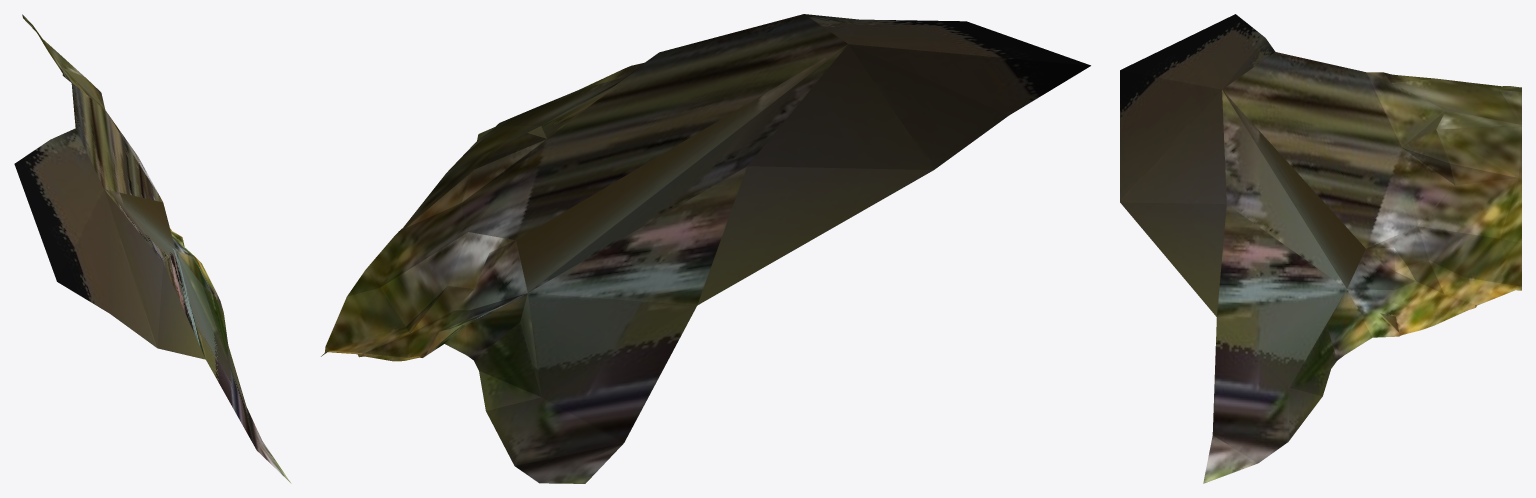
3 renders of one model, left to right at view 1: azimuth 30°, elevation 25°; view 2: azimuth 150°, elevation 25°; view 3: azimuth 270°, elevation 25°, orthographic. The views are drawn at different scales.
Size of the model in its own units: 1.91 by 2.43 by 2.53.
2 materials, 2 textured.
